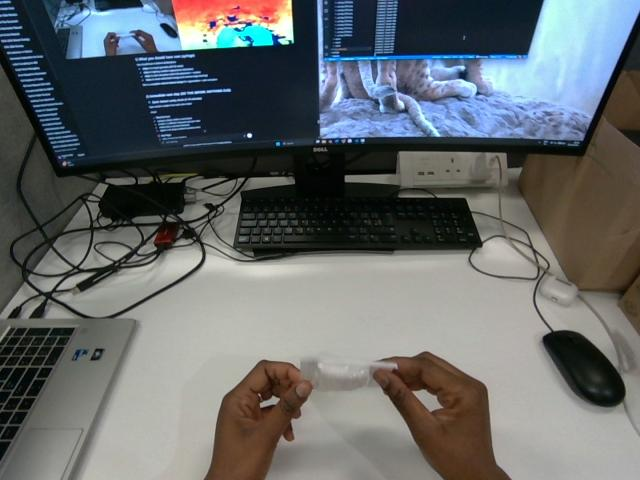gauze: (300, 355, 396, 390)
